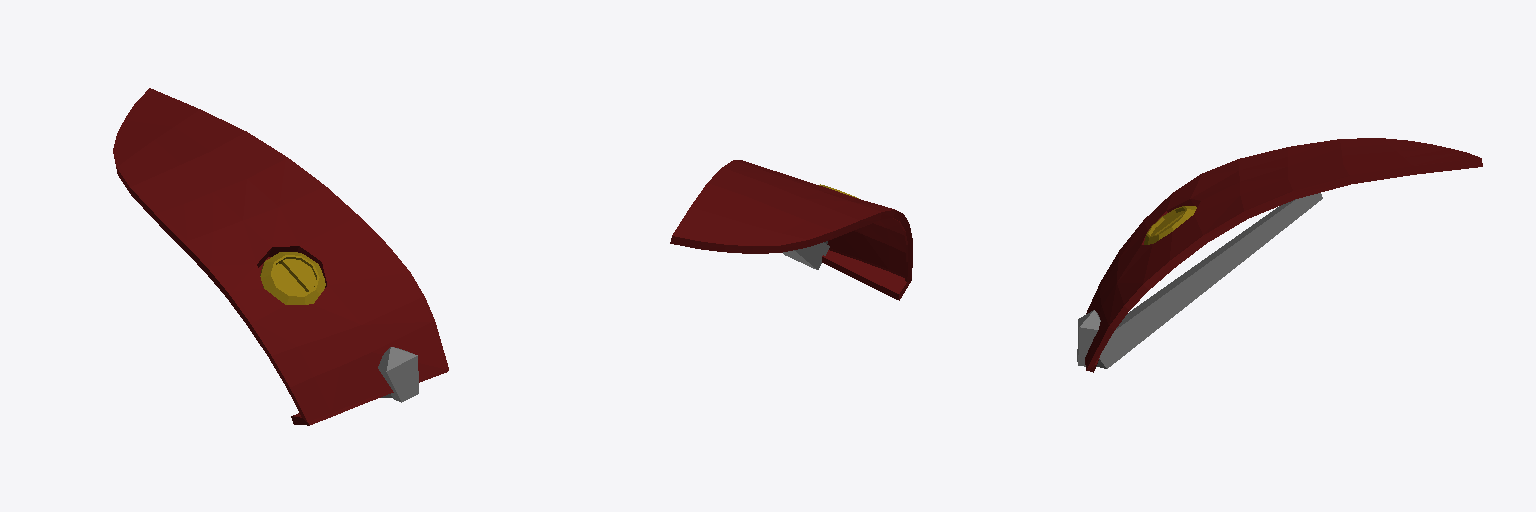
The model's file is flyB.obj.
3 renders of one model, left to right at view 1: azimuth 30°, elevation 25°; view 2: azimuth 150°, elevation 25°; view 3: azimuth 270°, elevation 25°, orthographic.
Visible parts, largest first — view 1: body:null_38, body:null_37, body:null_164; view 2: body:null_38, body:null_165; view 3: body:null_38, body:null_165, body:null_37, body:null_164.
Boxes of the visible parts, box(x1,y1,x2,y2) form: body:null_38: box(113, 88, 448, 425); body:null_37: box(260, 252, 325, 304); body:null_164: box(378, 347, 418, 402); body:null_38: box(670, 160, 912, 300); body:null_165: box(783, 242, 829, 269); body:null_38: box(1085, 138, 1482, 372); body:null_165: box(1096, 193, 1322, 368); body:null_37: box(1144, 206, 1196, 244); body:null_164: box(1077, 310, 1100, 366).
Bounding box in the file's own units: 1.31 × 1.24 × 2.38.